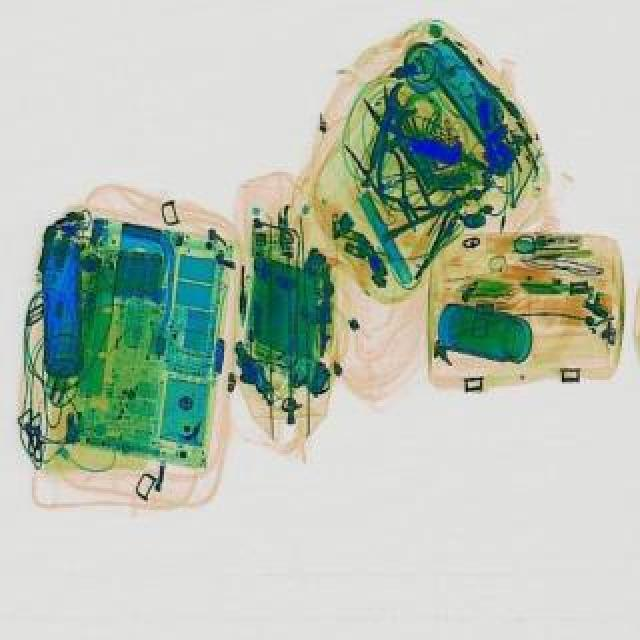wrench: (352, 82, 436, 210), (356, 148, 440, 244)
